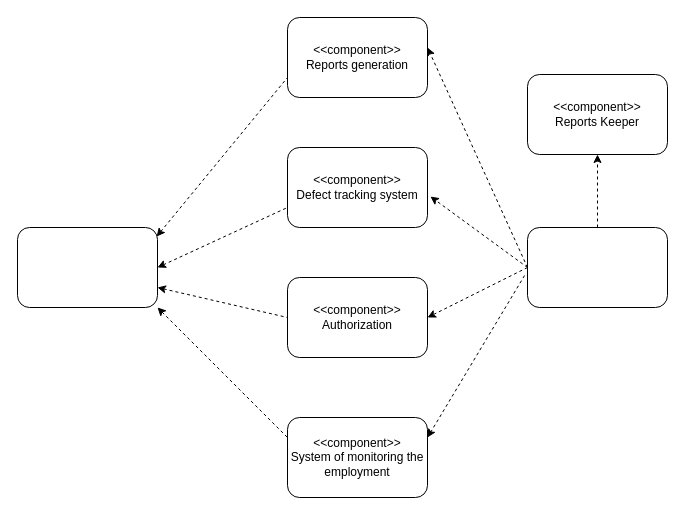
Image size: 685x515. Some labels were removed from this diagram. Each missing label, with the centre of its shape:
"<<component>> Data Base" goes at (87,267).
"<<component>> GUI" goes at (597,267).
